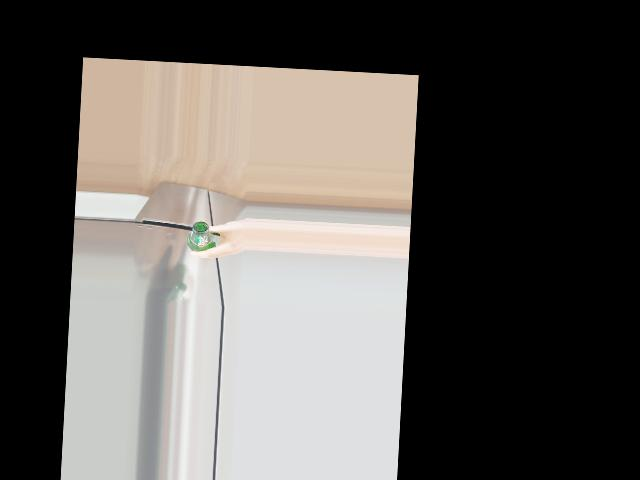beer: (186, 220, 216, 252)
